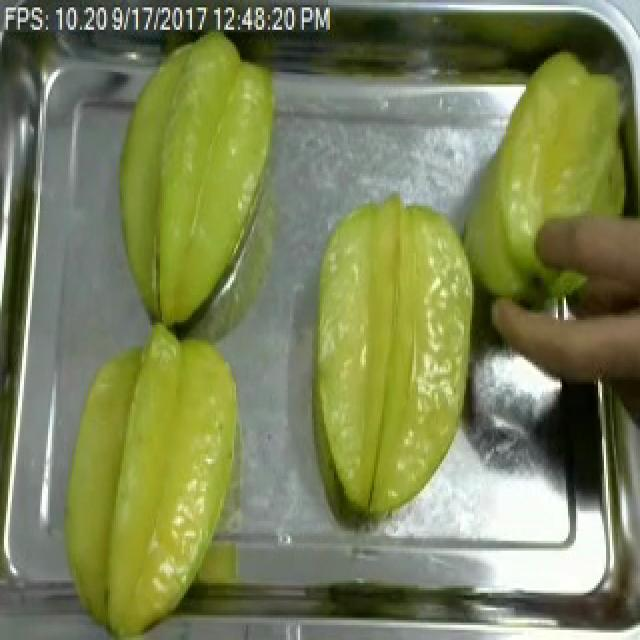fruit: (288, 179, 494, 533), (38, 312, 252, 640), (102, 22, 288, 342), (454, 35, 640, 322)
